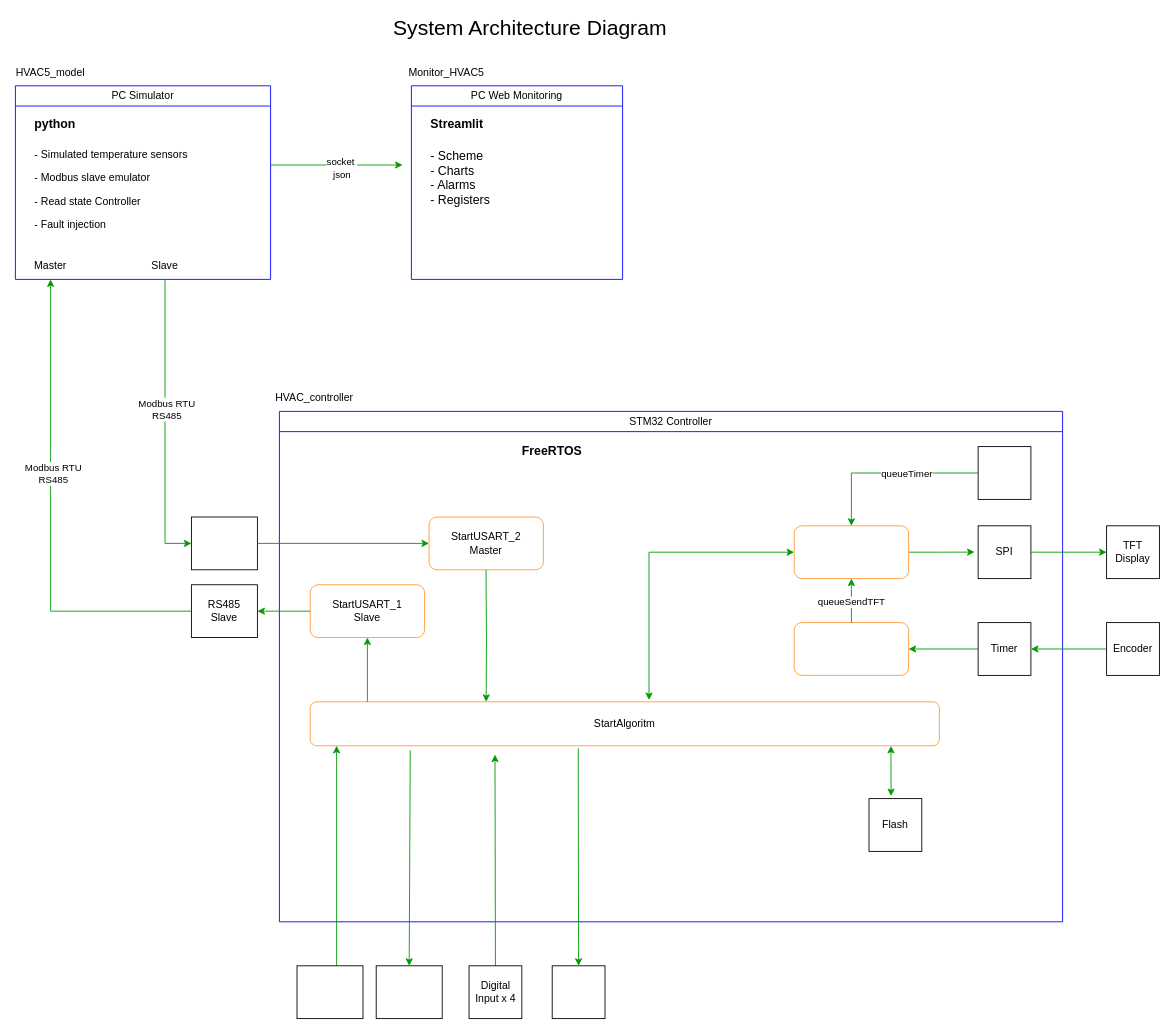
The diagram is 1175 pixels wide and 1034 high, and some of its shapes have lost their labels. The shapes that lost their labels are listed below. From the top down, each one's centre as x and y in pixels, then its label:
point (1004, 472): RTC
point (224, 543): RS485 Master
point (851, 552): Start_ST7789_Task
point (851, 648): Start_EC11
point (329, 992): Analog Input 0 -10 V x 3
point (408, 992): Analog Output 0 -10 V x 3
point (578, 992): Digital Output x 4
